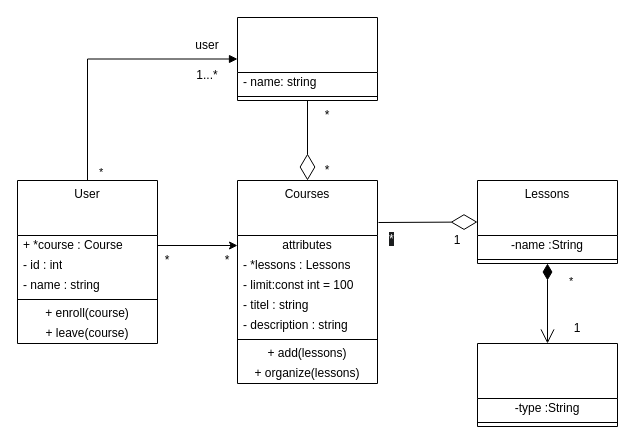
Some shapes in this 635 by 444 pixel diagram are drawn without their labels. Each missing label, with the box of its shape:
Content: (476, 342, 618, 426)
Plaform: (236, 16, 378, 100)
